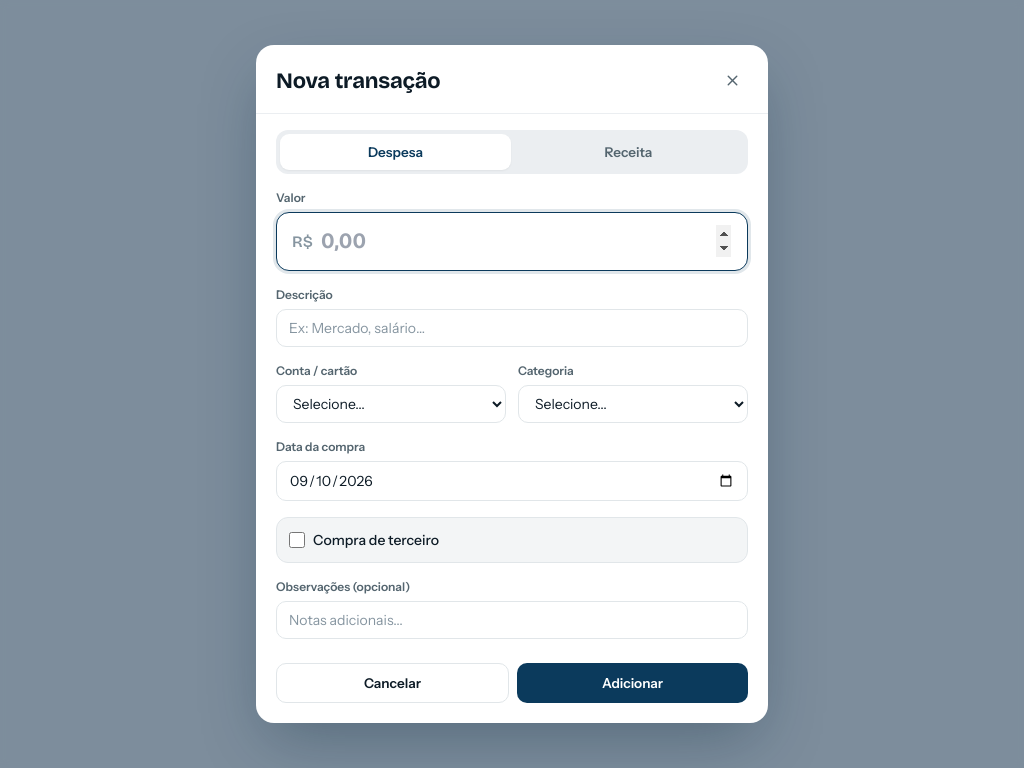
it: TransactionFormModal › shows credit card tip with and without closing day
Expected: the heading "Nova transação" is shown, [276,67,440,95]
Select "Cartão XP" in the dropdown labelled "Conta / cartão" at [391, 404], box [276,385,506,423]
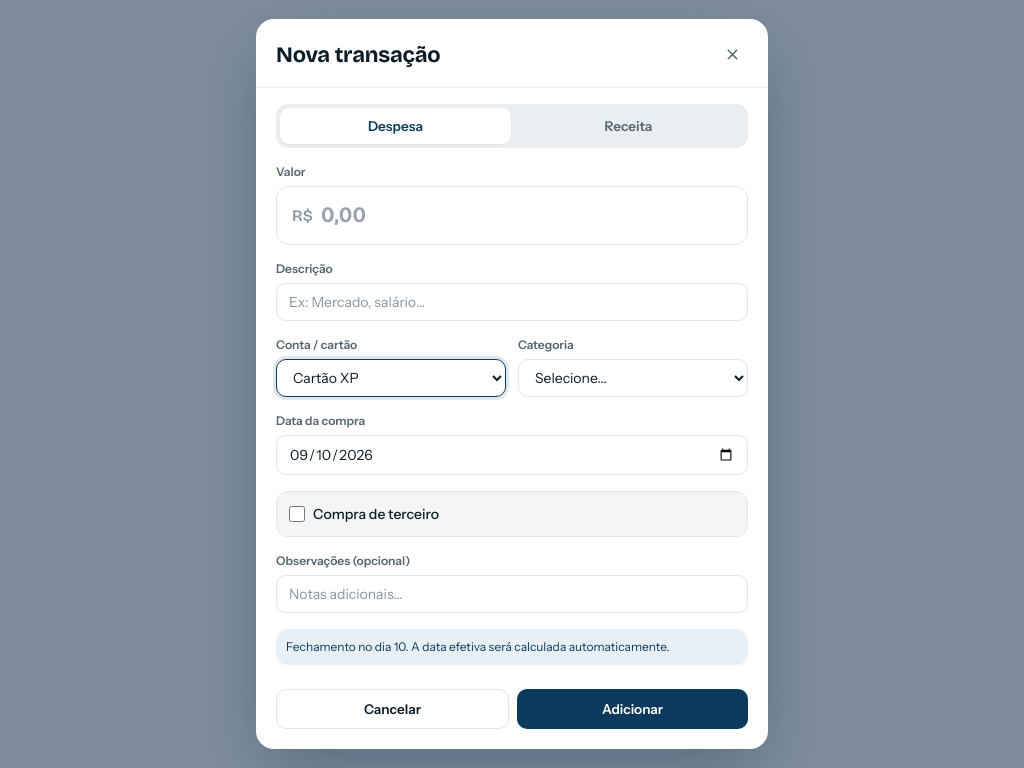
Result: the text "Fechamento no dia 10" is shown at [286,639,670,654]
Select "Sem fechamento" in the dropdown labelled "Conta / cartão" at [391, 378], box [276,359,506,397]
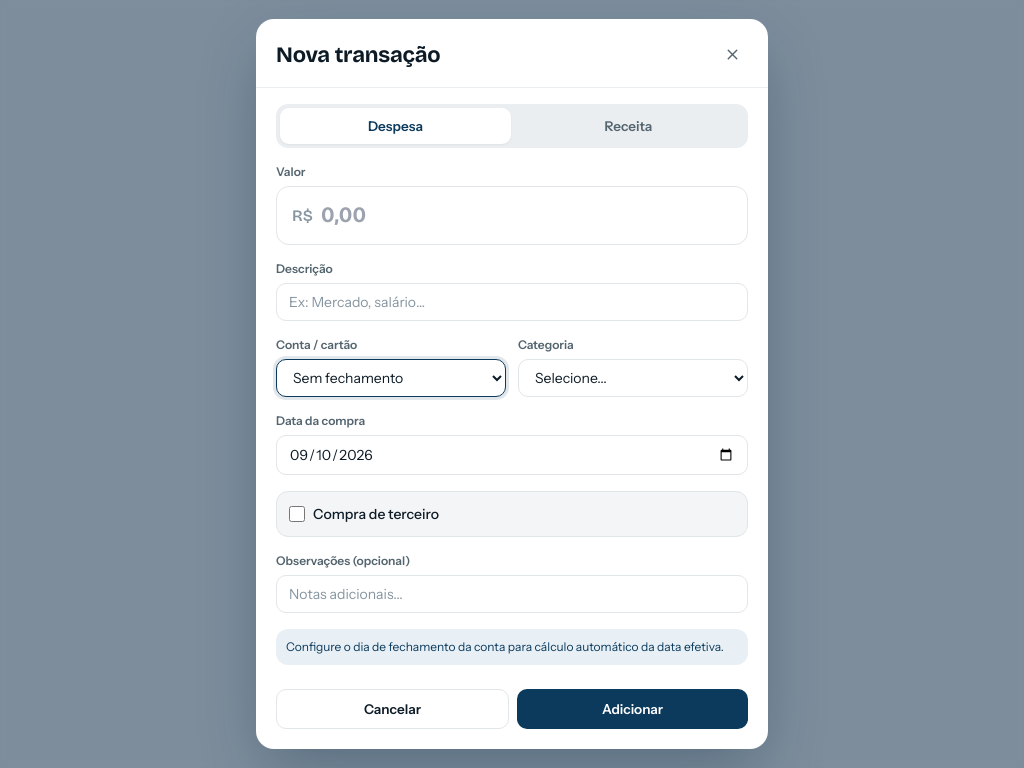
Result: the text "Configure o dia de fechamento" is shown at [286,639,724,654]
